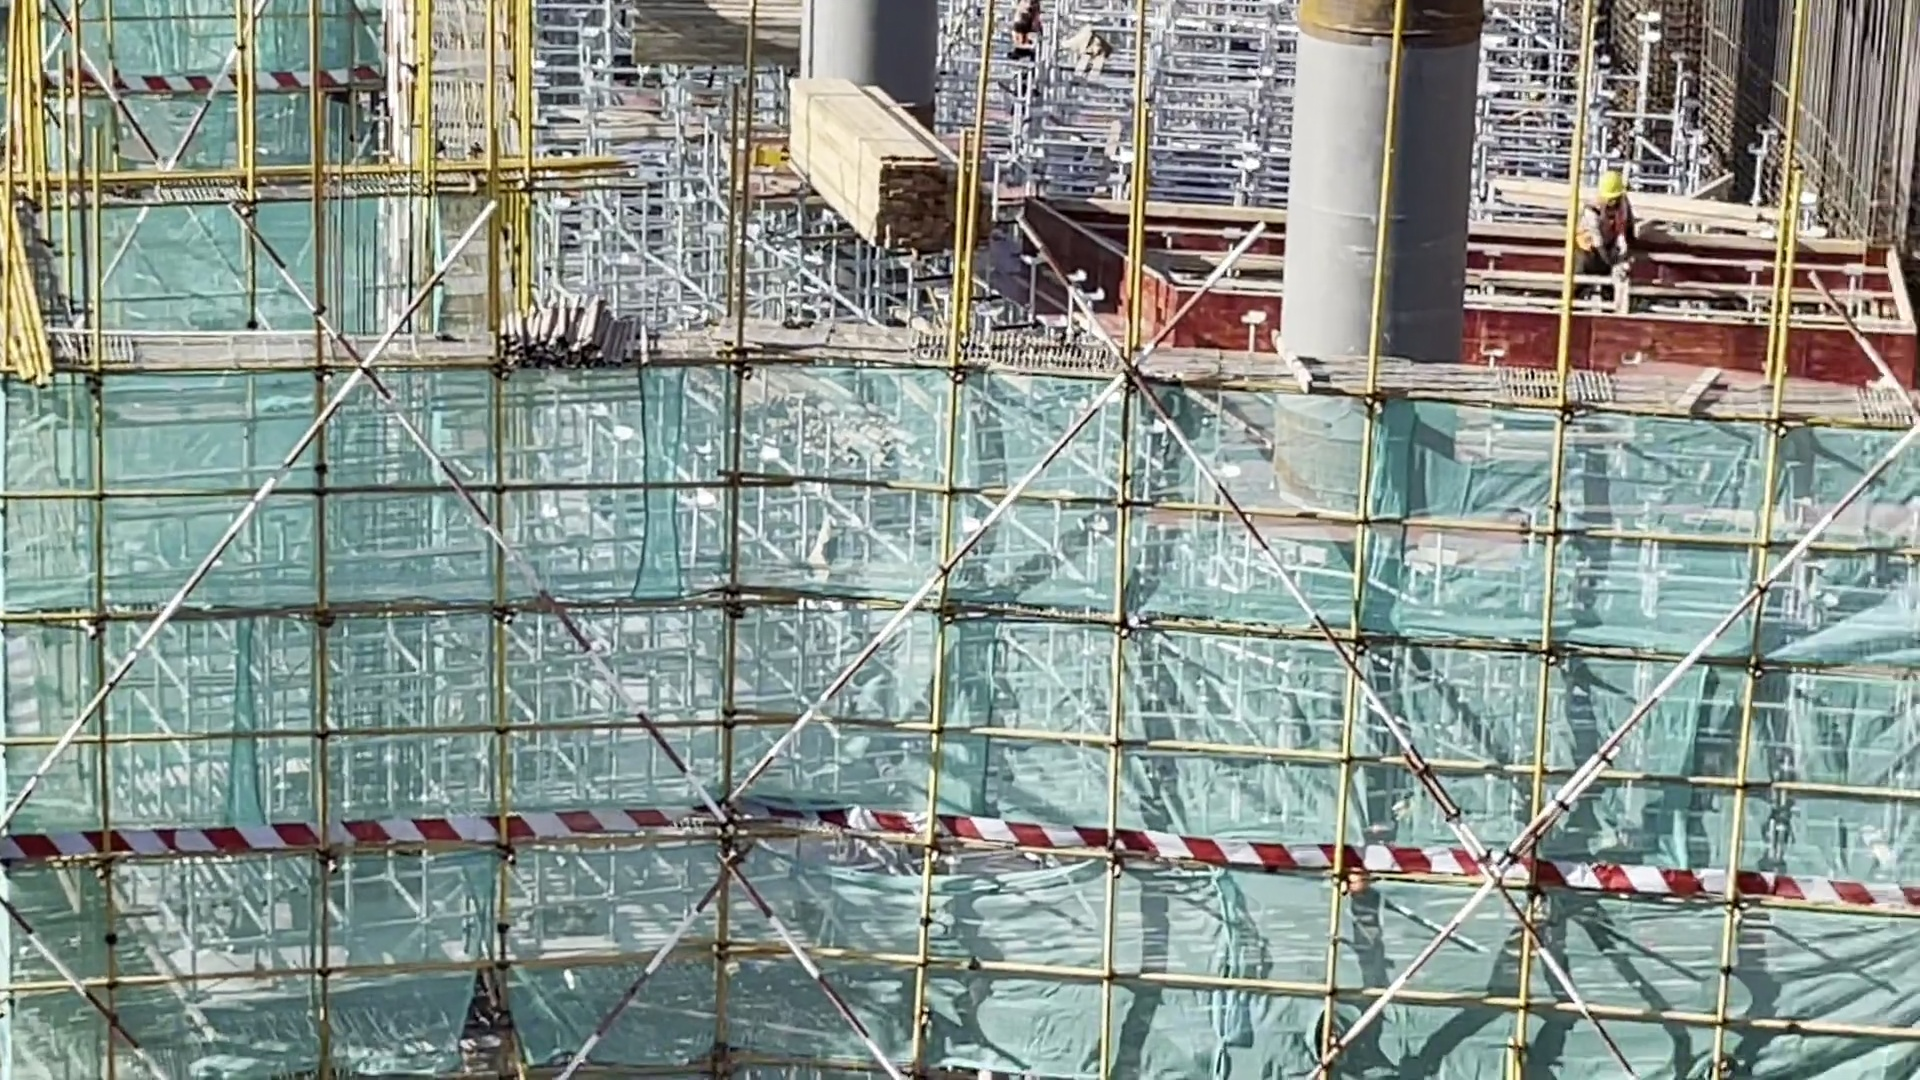helmet: (1596, 163, 1626, 198)
person: (1560, 154, 1648, 306)
